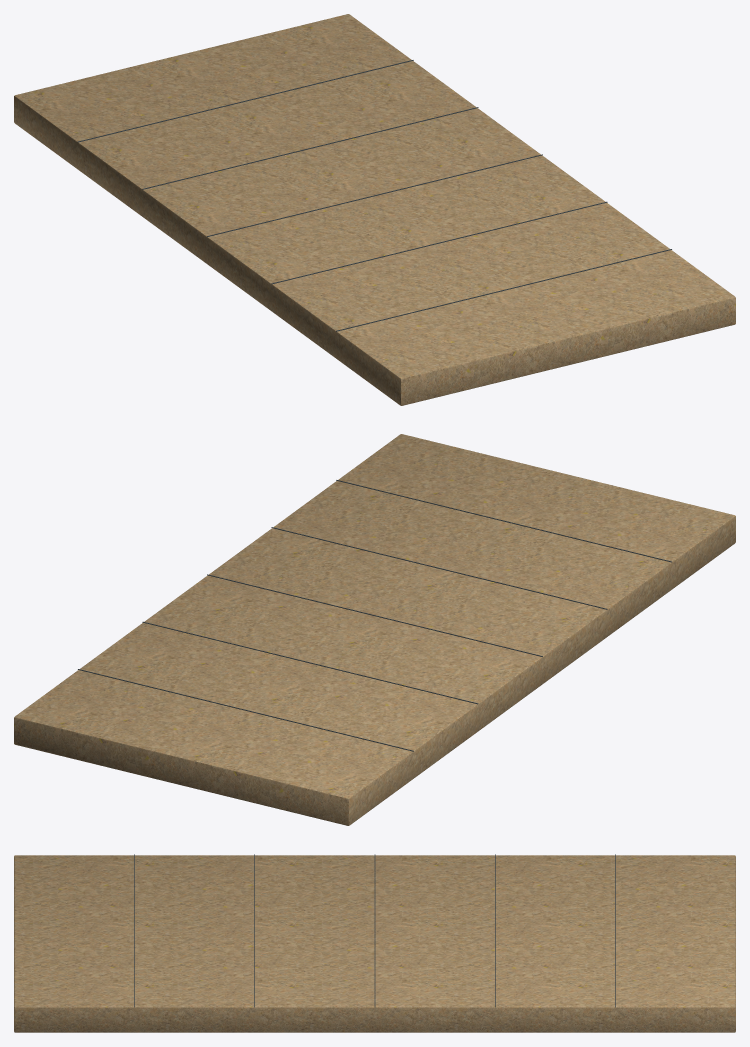
File: acera_modular_base.glb
The picture shows the model from 3 angles, top to bottom: view 1: azimuth 30°, elevation 25°; view 2: azimuth 150°, elevation 25°; view 3: azimuth 270°, elevation 25°; orthographic projection. The views are drawn at different scales.
Visible parts, largest first — view 1: acera_modular_base; view 2: acera_modular_base; view 3: acera_modular_base.
Boxes of the visible parts, bbox=[...] form: acera_modular_base: bbox=[14, 14, 735, 405]; acera_modular_base: bbox=[14, 434, 735, 825]; acera_modular_base: bbox=[14, 854, 735, 1032].
Size of the model in its own units: 1.5 by 0.122 by 3.
2 materials, 1 textured.
